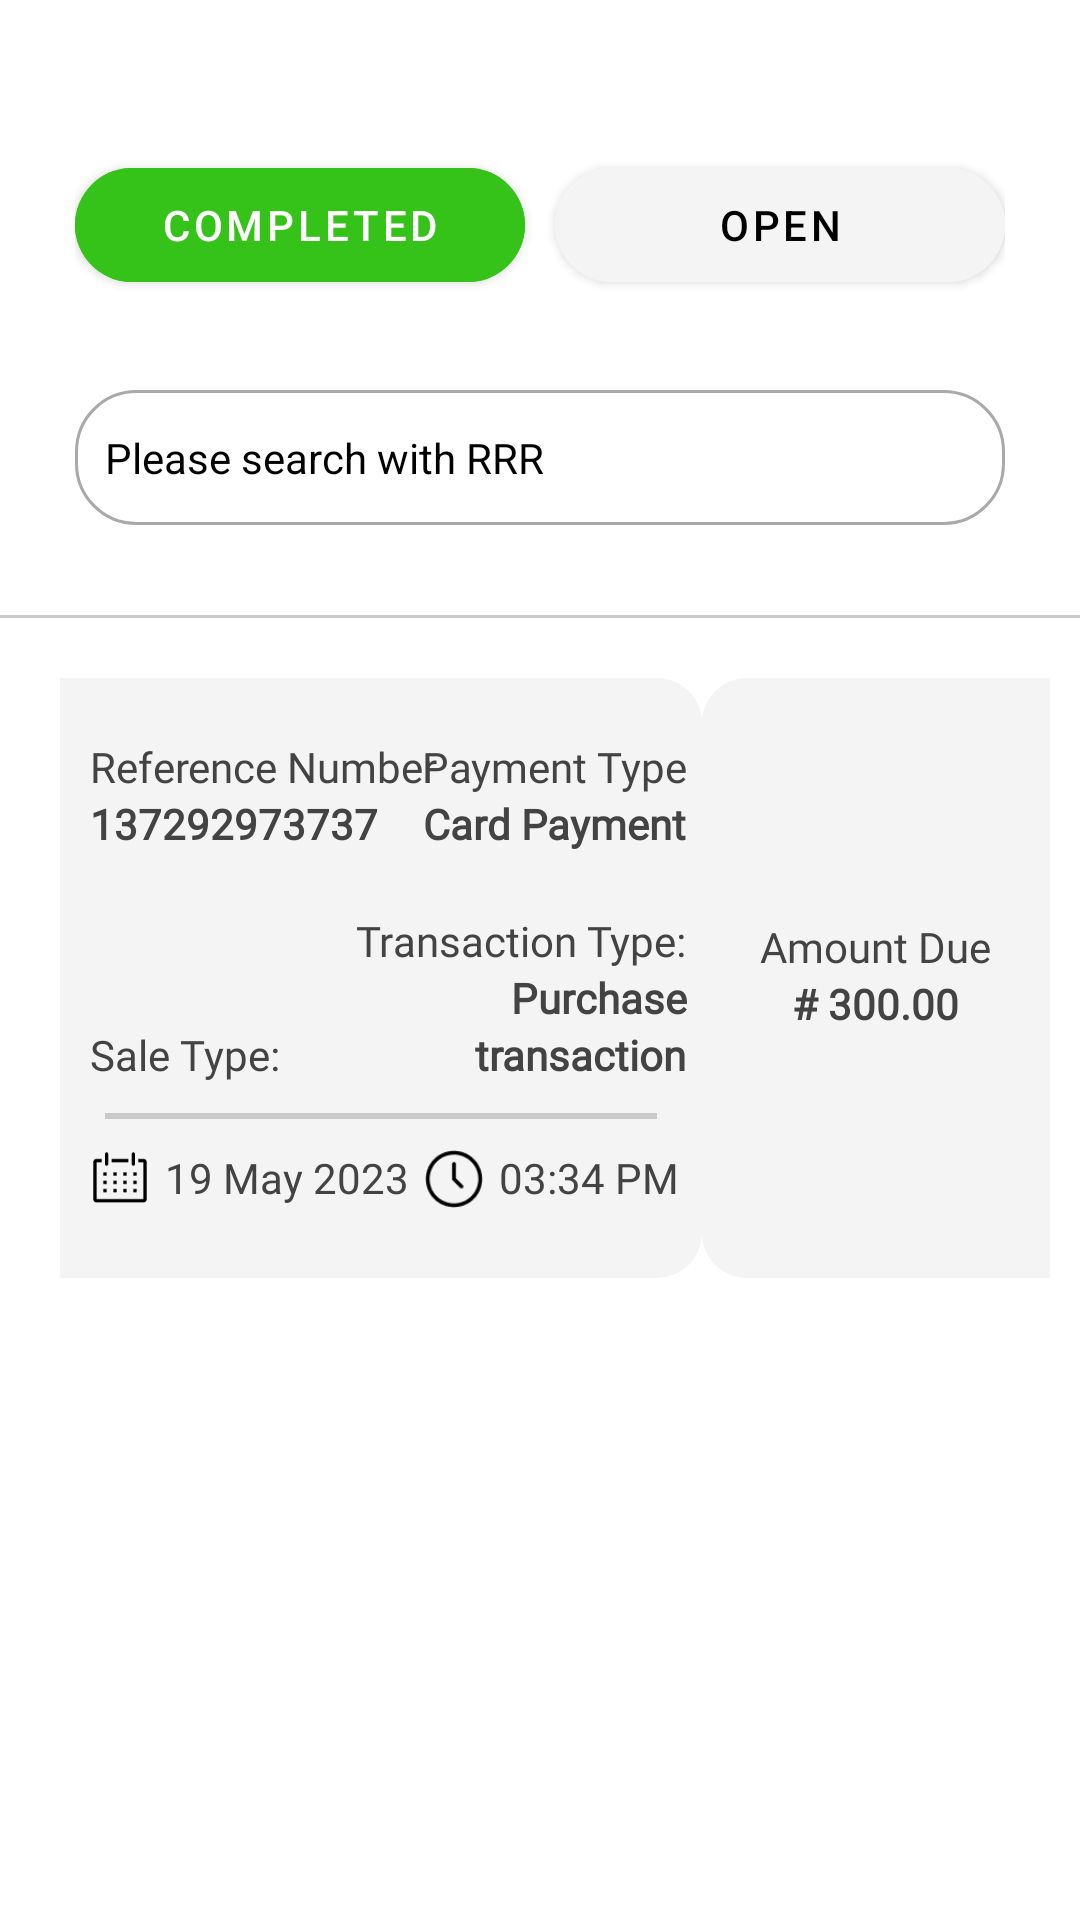

Named icons in this screenshot (1080x1920) and their centers, point (x, y):
calendar: point (120, 1177)
time: point (454, 1179)
